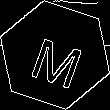M_N: (24, 23, 86, 87)
